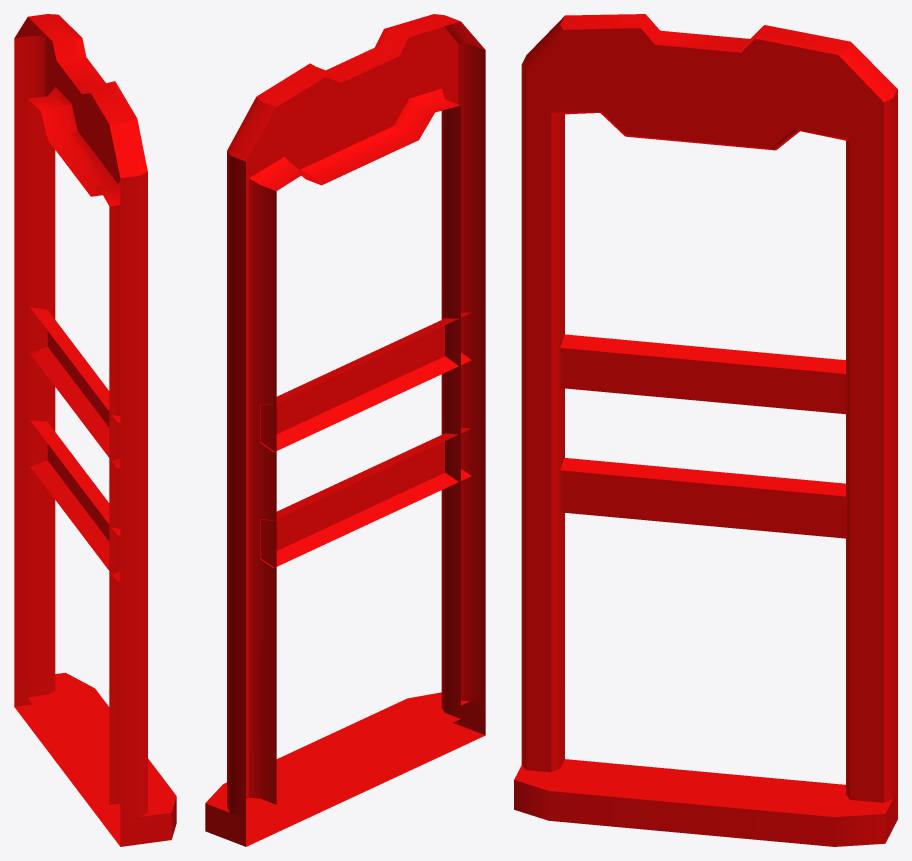
Rendered from WitchShop_WindowFrame.fbx.
The picture shows the model from 3 angles, left to right: view 1: azimuth 30°, elevation 25°; view 2: azimuth 150°, elevation 25°; view 3: azimuth 270°, elevation 25°; orthographic projection. The views are drawn at different scales.
Parts seen in each view (by area): view 1: WindowFrame; view 2: WindowFrame; view 3: WindowFrame.
Boxes of the visible parts, bbox=[...] form: WindowFrame: bbox=[14, 14, 176, 846]; WindowFrame: bbox=[205, 14, 485, 846]; WindowFrame: bbox=[514, 14, 897, 846].
Size of the model in its own units: 37.81 by 224 by 99.59.
